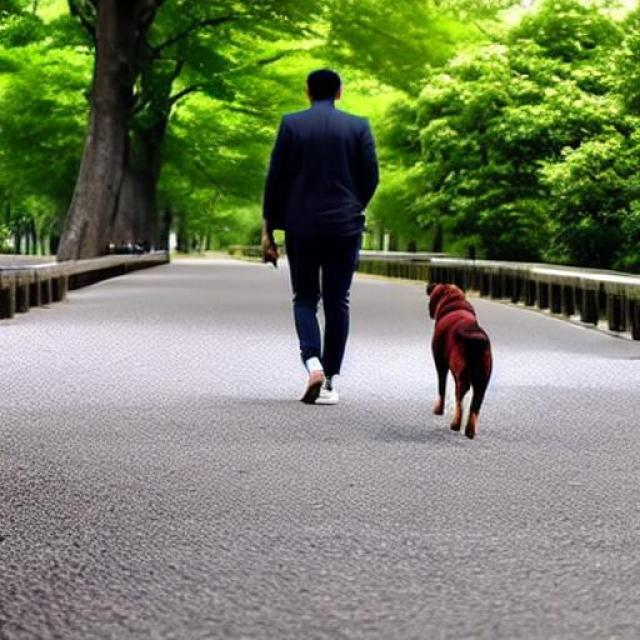Unleashed_Dog: (284, 226, 492, 439)
